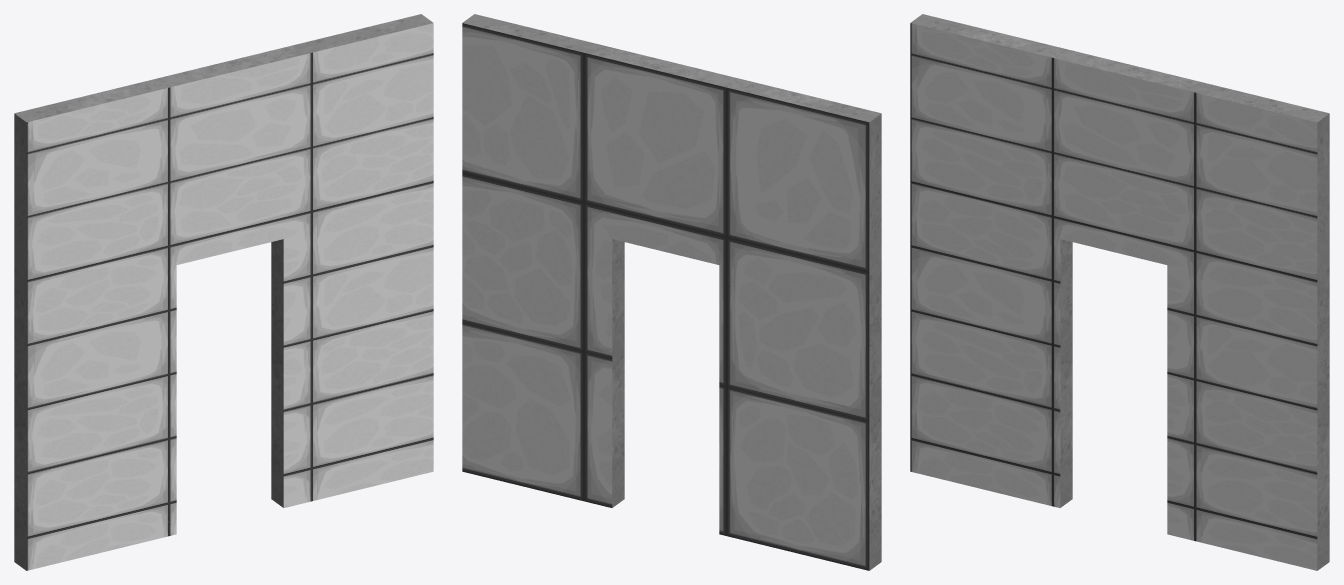
The model's file is SM_Inner_Wall_Door_A.fbx.
The picture shows the model from 3 angles, left to right: view 1: azimuth 30°, elevation 25°; view 2: azimuth 150°, elevation 25°; view 3: azimuth 330°, elevation 25°; orthographic projection.
Parts seen in each view (by area): view 1: SM_Inner_Wall_Door_A; view 2: SM_Inner_Wall_Door_A; view 3: SM_Inner_Wall_Door_A.
Boxes of the visible parts, bbox=[...] form: SM_Inner_Wall_Door_A: bbox=[14, 14, 433, 570]; SM_Inner_Wall_Door_A: bbox=[462, 14, 881, 570]; SM_Inner_Wall_Door_A: bbox=[910, 14, 1329, 570].
Size of the model in its own units: 380 by 400 by 20.
